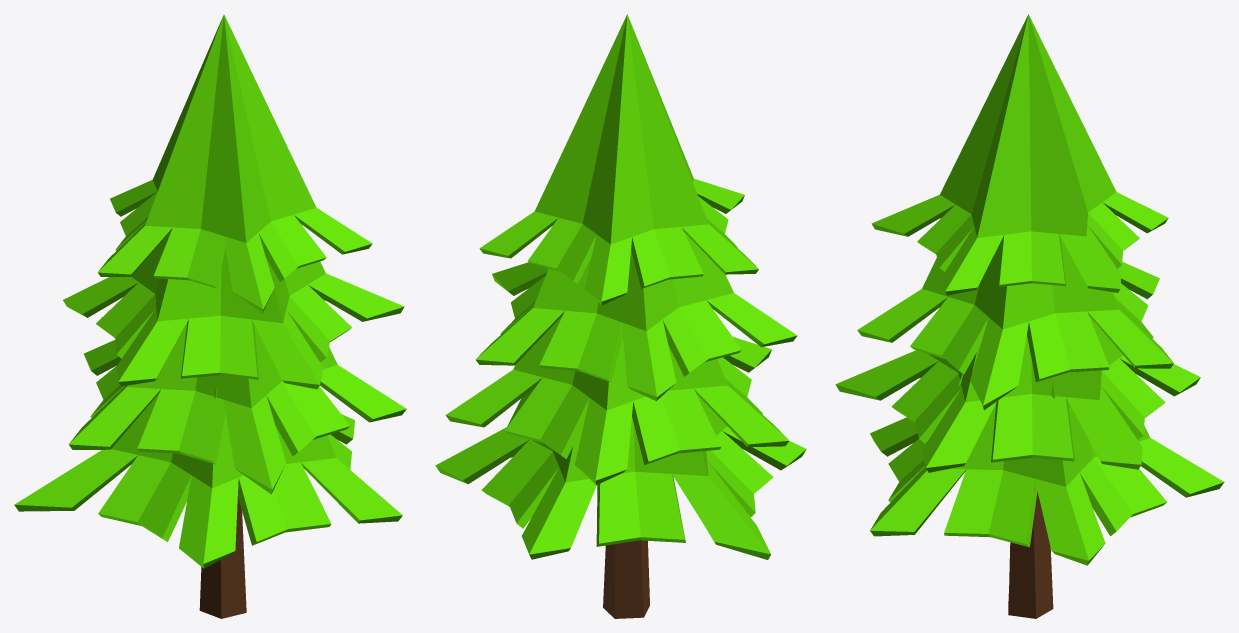
Rendered from tree_3.glb.
3 renders of one model, left to right at view 1: azimuth 30°, elevation 25°; view 2: azimuth 150°, elevation 25°; view 3: azimuth 270°, elevation 25°, orthographic.
Visible parts, largest first — view 1: Tree_3; view 2: Tree_3; view 3: Tree_3.
Part boxes in pixels (x1,y1,x2,y2): Tree_3: (14,14,406,618); Tree_3: (435,14,806,618); Tree_3: (835,14,1224,618).
Bounding box in the file's own units: 5.89 × 9.9 × 5.87.
